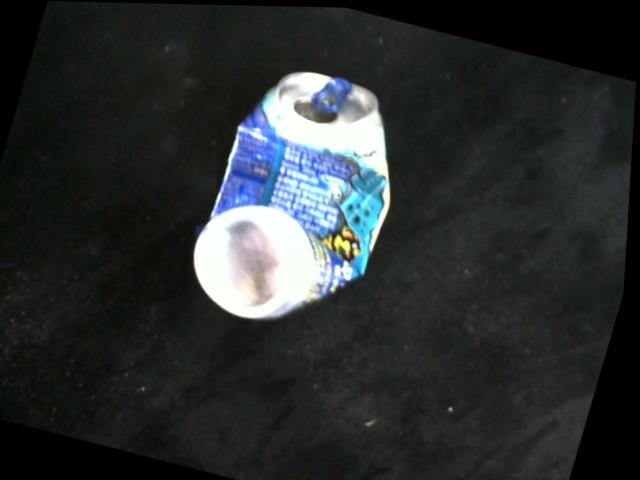can: (192, 67, 396, 323)
